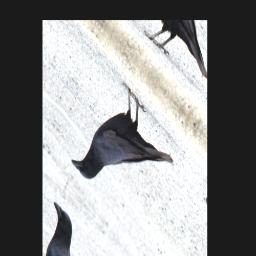Crow: (70, 66, 181, 241)
